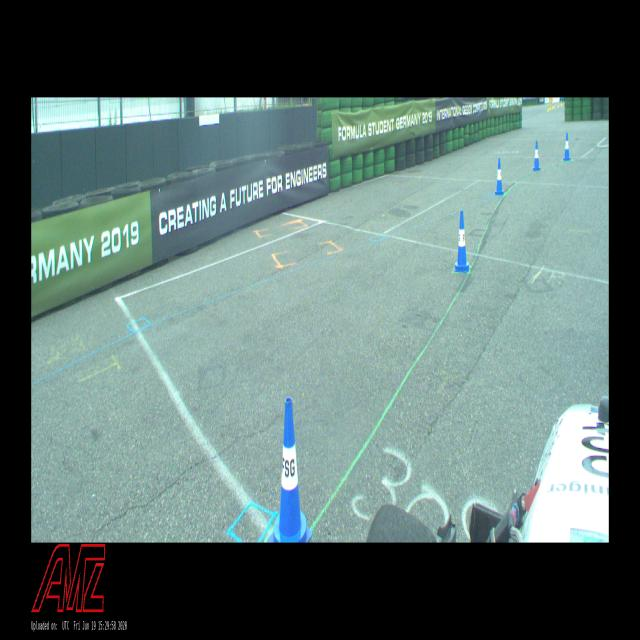blue_cone: (268, 398, 312, 543), (454, 212, 469, 272), (494, 158, 504, 196), (533, 140, 540, 170), (564, 134, 570, 160)
yellow_cone: (552, 102, 553, 109), (561, 100, 562, 106), (548, 104, 548, 110), (550, 103, 550, 110), (558, 103, 558, 107), (554, 102, 554, 108)
